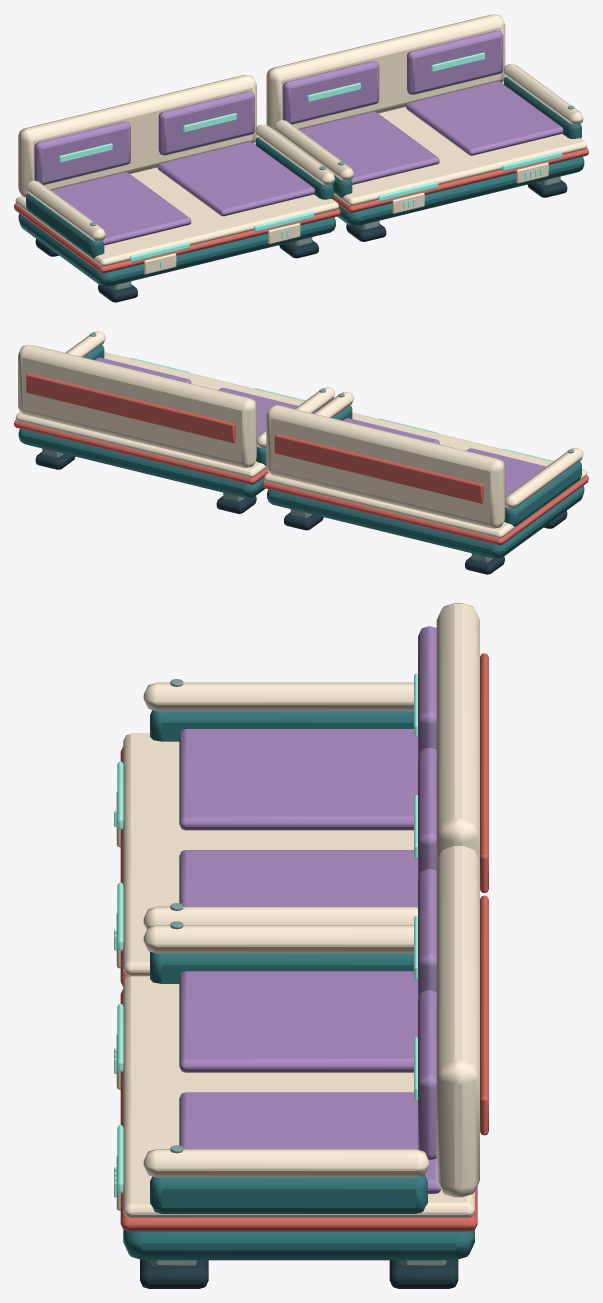
The model's file is waiting-benches.glb.
3 renders of one model, top to bottom at view 1: azimuth 30°, elevation 25°; view 2: azimuth 150°, elevation 25°; view 3: azimuth 270°, elevation 25°, orthographic. The views are drawn at different scales.
Parts seen in each view (by area): view 1: LavenderEnamel, CeramicCream, DeepTeal, CoralEnamel, SlateRubber, WaitingGlow4, WaitingGlow3, WaitingGlow2, WaitingGlow1, BrushedMetal; view 2: CeramicCream, CoralEnamel, DeepTeal, LavenderEnamel, SlateRubber, BrushedMetal; view 3: CeramicCream, LavenderEnamel, DeepTeal, CoralEnamel, SlateRubber, BrushedMetal.
Boxes of the visible parts, left/top/right/bottom form: LavenderEnamel: left=34, top=30, right=563, bottom=245; CeramicCream: left=15, top=14, right=587, bottom=274; DeepTeal: left=18, top=77, right=584, bottom=286; CoralEnamel: left=14, top=148, right=588, bottom=273; SlateRubber: left=35, top=180, right=567, bottom=302; WaitingGlow4: left=431, top=52, right=562, bottom=179; WaitingGlow3: left=307, top=82, right=438, bottom=209; WaitingGlow2: left=183, top=113, right=313, bottom=238; WaitingGlow1: left=59, top=143, right=189, bottom=268; BrushedMetal: left=90, top=105, right=574, bottom=290; CeramicCream: left=15, top=331, right=587, bottom=538; CoralEnamel: left=14, top=373, right=588, bottom=545; DeepTeal: left=18, top=345, right=584, bottom=558; LavenderEnamel: left=95, top=357, right=546, bottom=507; SlateRubber: left=35, top=452, right=567, bottom=574; BrushedMetal: left=42, top=332, right=574, bottom=562; CeramicCream: left=116, top=603, right=479, bottom=1217; LavenderEnamel: left=179, top=626, right=440, bottom=1193; DeepTeal: left=123, top=710, right=474, bottom=1260; CoralEnamel: left=120, top=653, right=488, bottom=1231; SlateRubber: left=140, top=1259, right=458, bottom=1288; BrushedMetal: left=151, top=679, right=446, bottom=1266.
Bounding box in the file's own units: 4.45 × 1.03 × 1.47.
